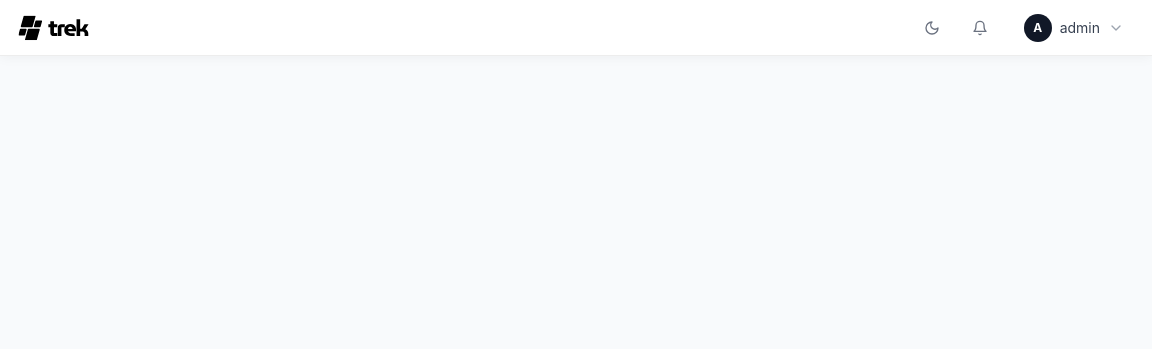
Test: Navbar › FE-COMP-NAVBAR-009: admin user sees Admin option
Click the text "admin".
click(1080, 28)  # box x1=1060 y1=18 x2=1100 y2=38
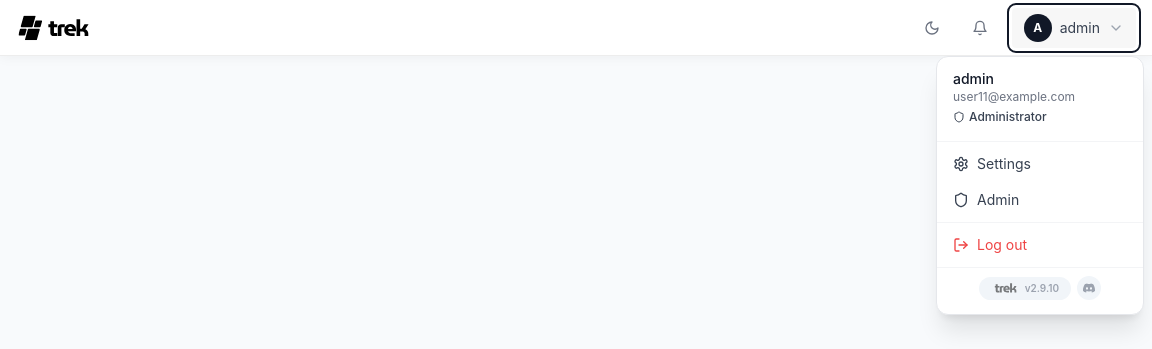
Check: the link "Admin" is shown, box x1=953 y1=191 x2=1019 y2=208
